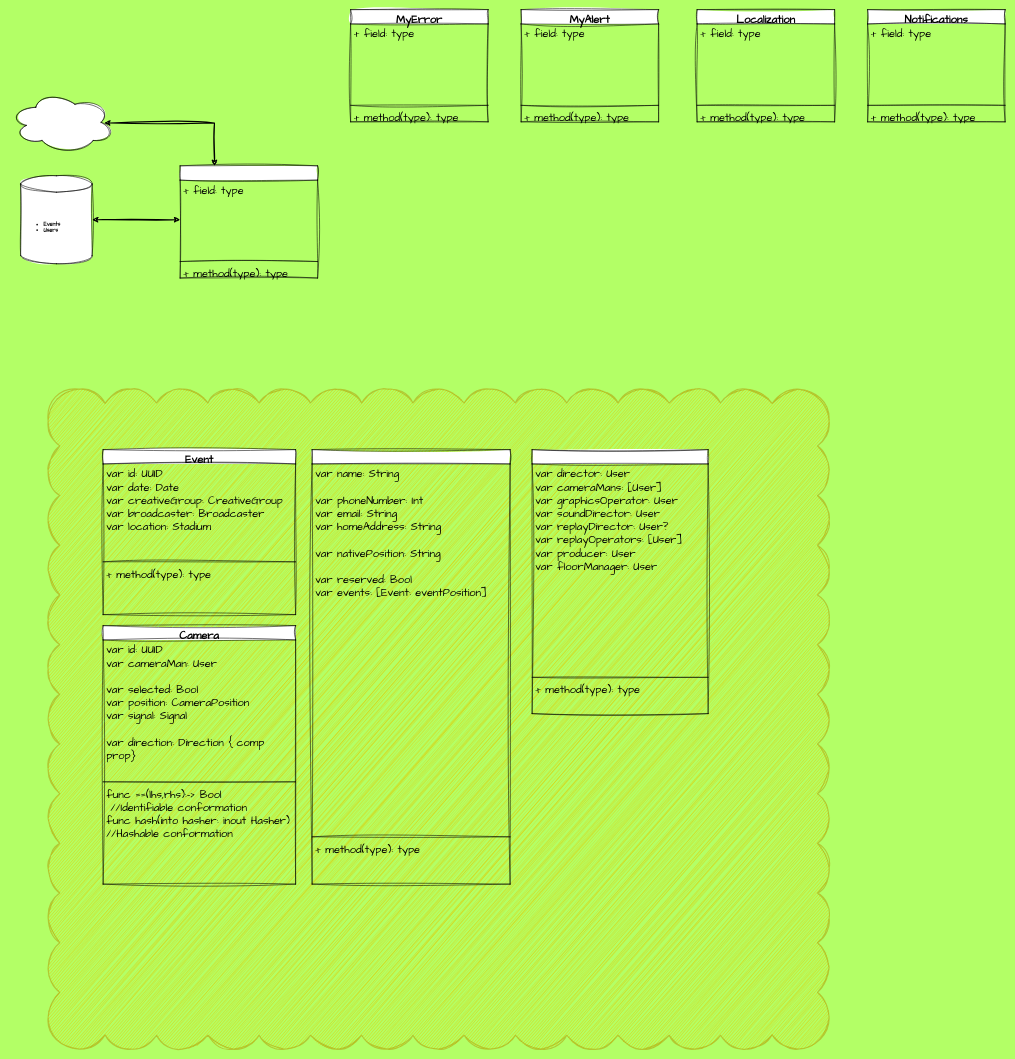
The diagram is 1015 pixels wide and 1059 high, and some of its shapes have lost their labels. Here are the shapes that lost their labels. From the top down, the box of each, then its label:
(180, 165, 318, 278): DataManager
(532, 449, 708, 714): CreativeGroup
(312, 449, 510, 884): User
(47, 388, 829, 1049): DataModels
